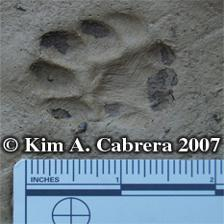cat: (24, 11, 178, 129)
